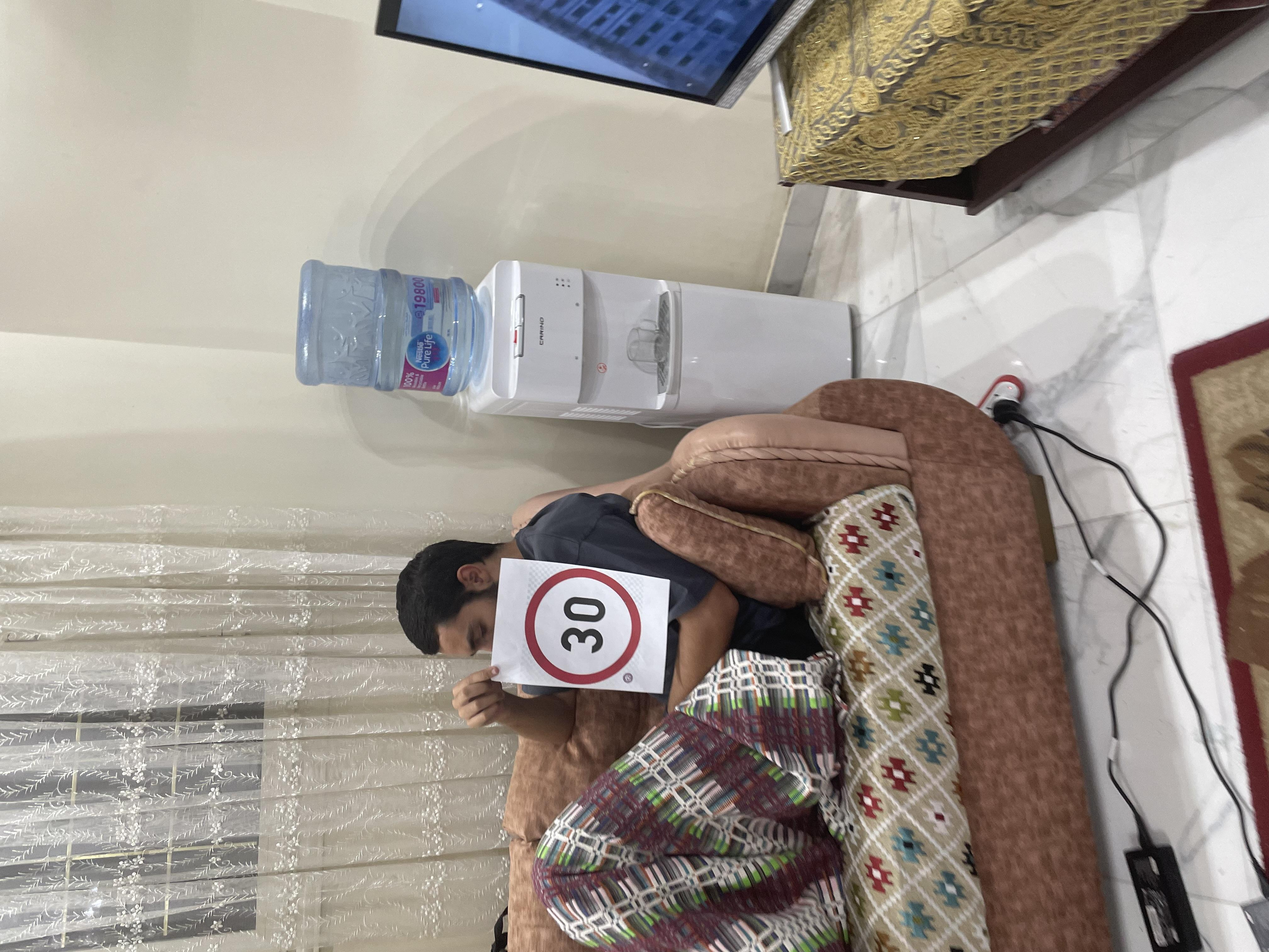30-speed: (358, 390, 509, 483)
